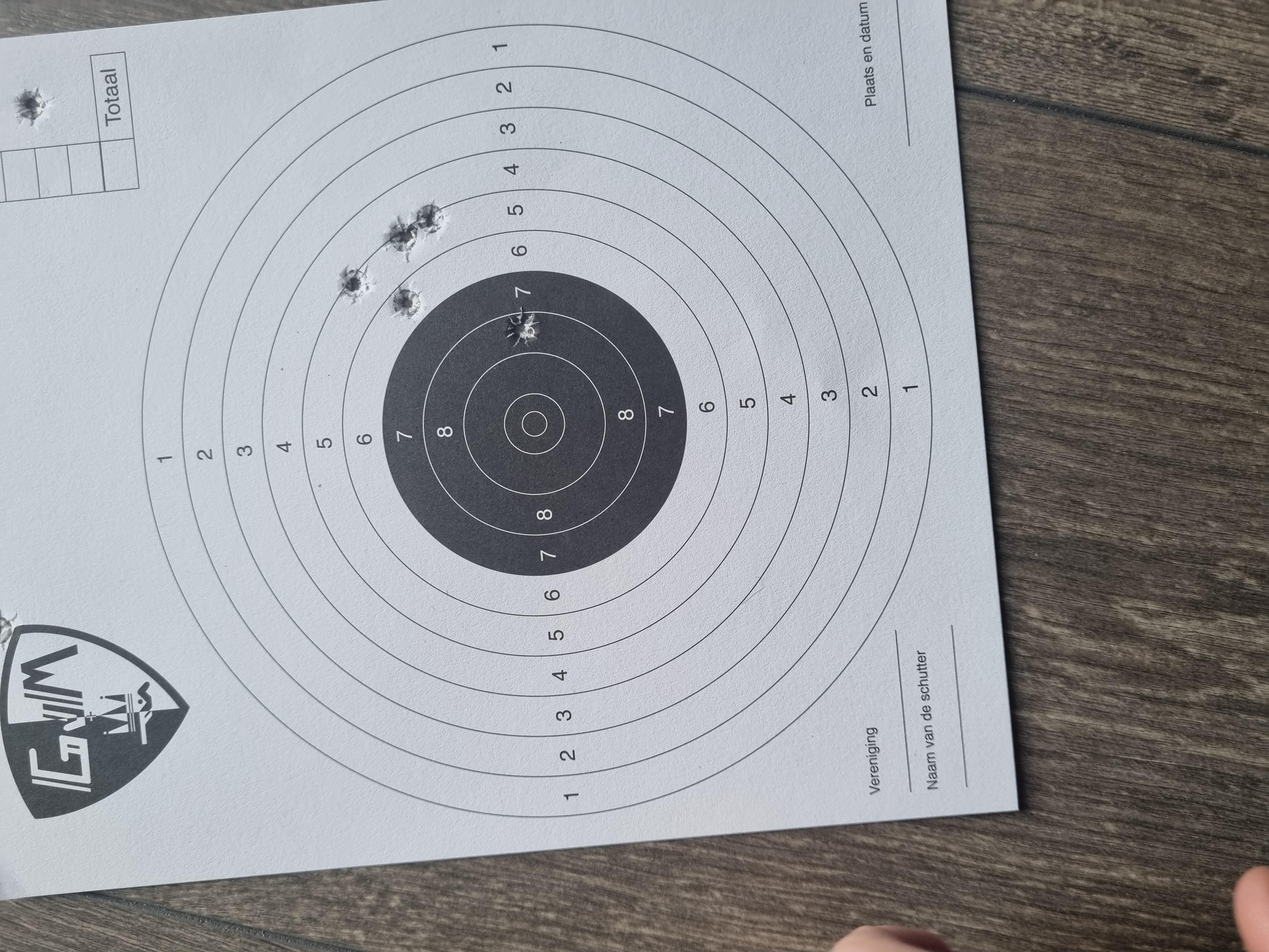hole: (1098, 12, 1153, 41), (921, 288, 981, 313), (806, 380, 860, 404), (861, 254, 917, 277), (845, 294, 890, 316), (958, 312, 1004, 332), (400, 0, 457, 13)
